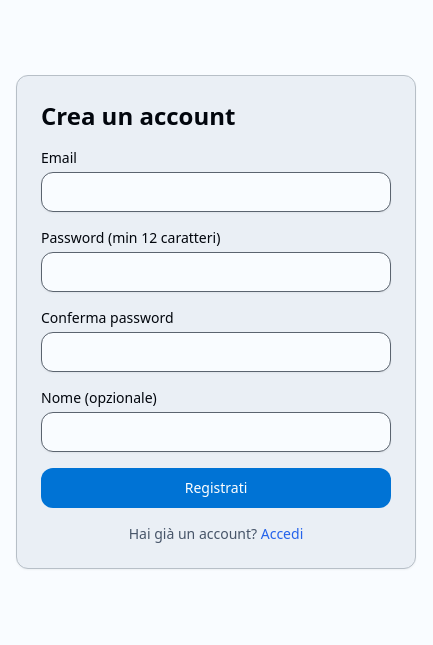
it: RegisterPage — US-081 CAPTCHA flow (TSK-238) › mounts the widget and disables submit after a captchaRequired 401 from /register
This screenshot has width=433, height=645.
In the field with test id "register-email": (216, 192) x1=41 y1=172 x2=391 y2=212, type "newuser@example.com"
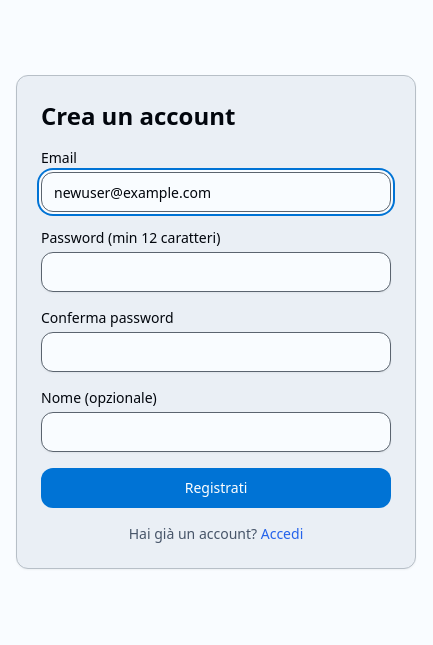
In the password field with test id "register-password": (216, 272) x1=41 y1=252 x2=391 y2=292, type "Password1234!"
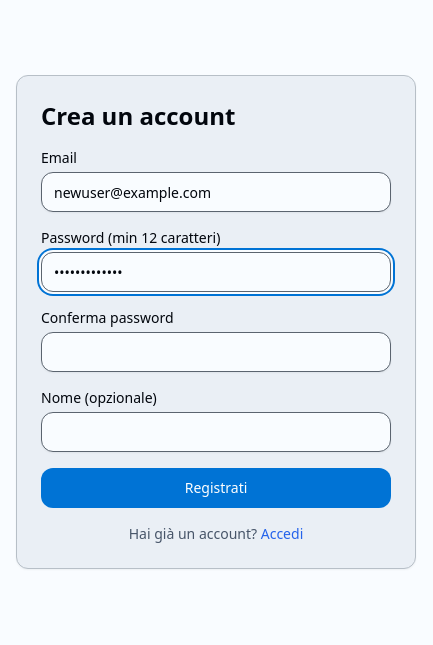
In the password field with test id "register-confirm-password": (216, 352) x1=41 y1=332 x2=391 y2=372, type "Password1234!"
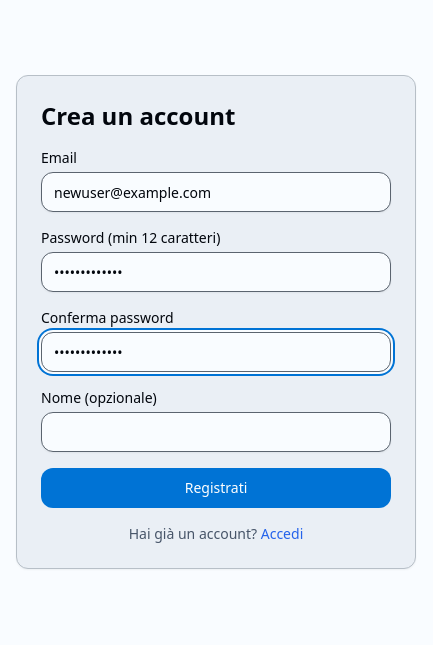
Click the button with test id "register-submit": (216, 488) x1=41 y1=468 x2=391 y2=508
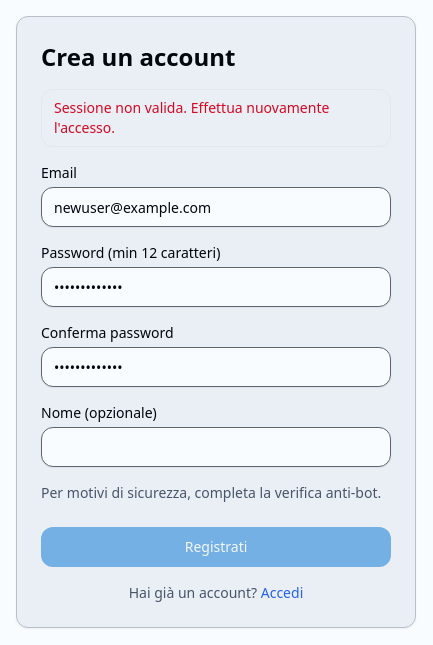
Result: the element with test id "register-captcha" is shown at x1=41 y1=483 x2=391 y2=511
Result: the button with test id "register-submit" is disabled at x1=41 y1=527 x2=391 y2=567
